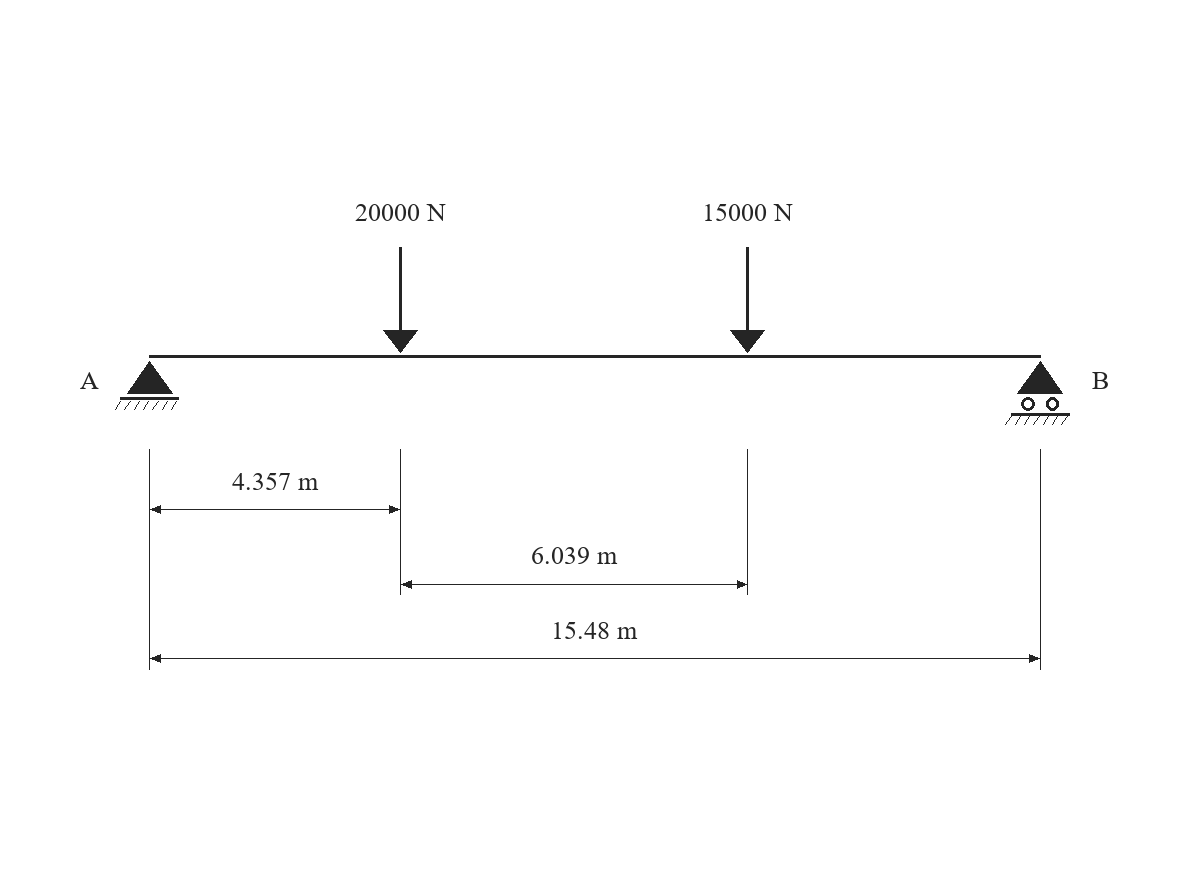pin_support: (115, 361, 179, 410)
point_load: (383, 247, 418, 353), (730, 247, 765, 353)
roller_support: (1005, 361, 1070, 425)
